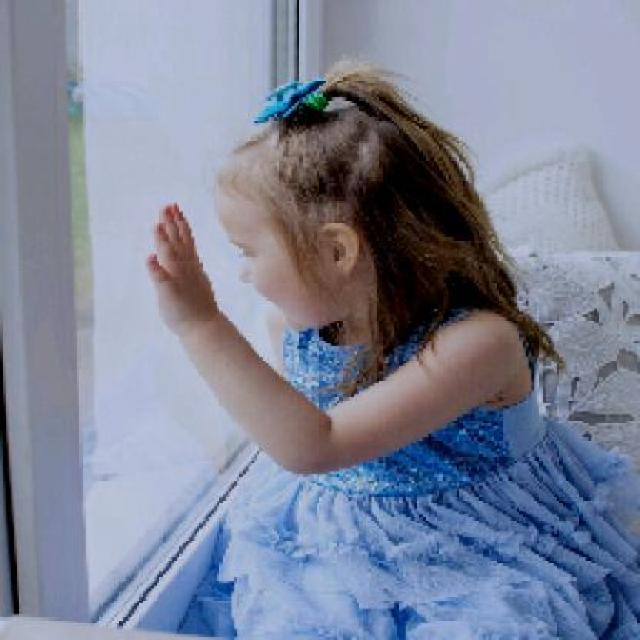child: (143, 57, 640, 637)
